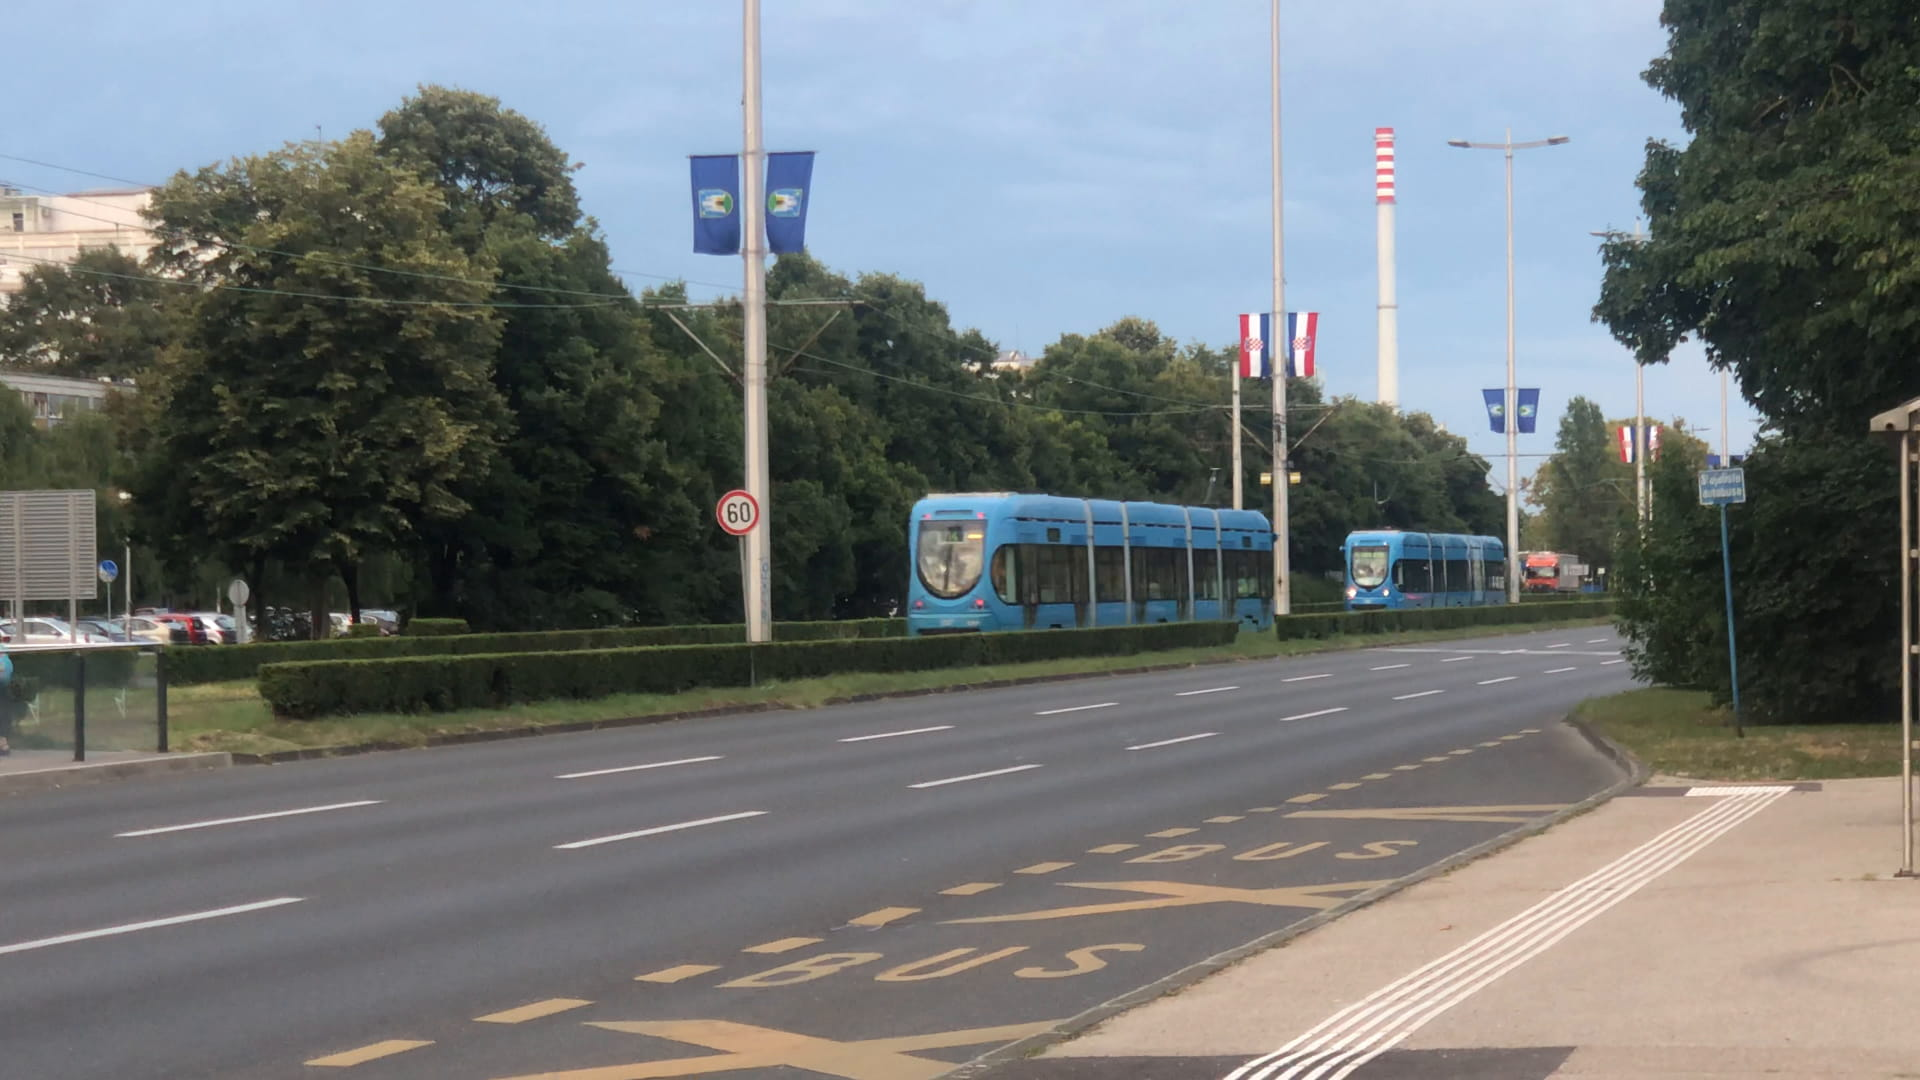tramvaj: (902, 492, 1276, 647), (1338, 527, 1510, 615)
